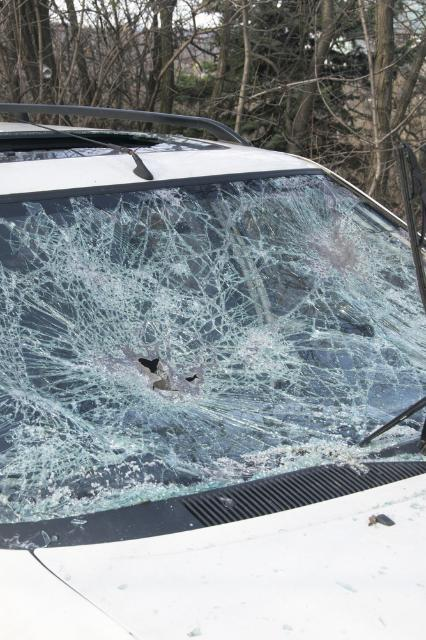glass shatter: (0, 173, 426, 525)
